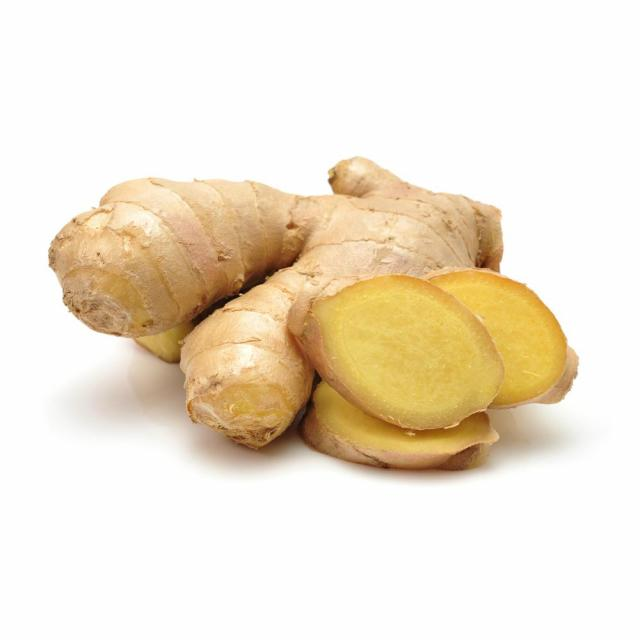ginger: (41, 152, 568, 470)
